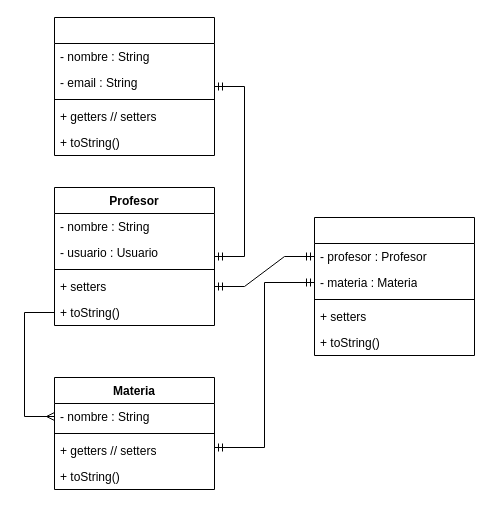
This 492x510 diagram has some shape labels left out. Here are the shapes that lost their labels. From the top down, the box of each, then its label:
(54, 16, 214, 156): Usuario
(314, 216, 474, 356): Asesoria
